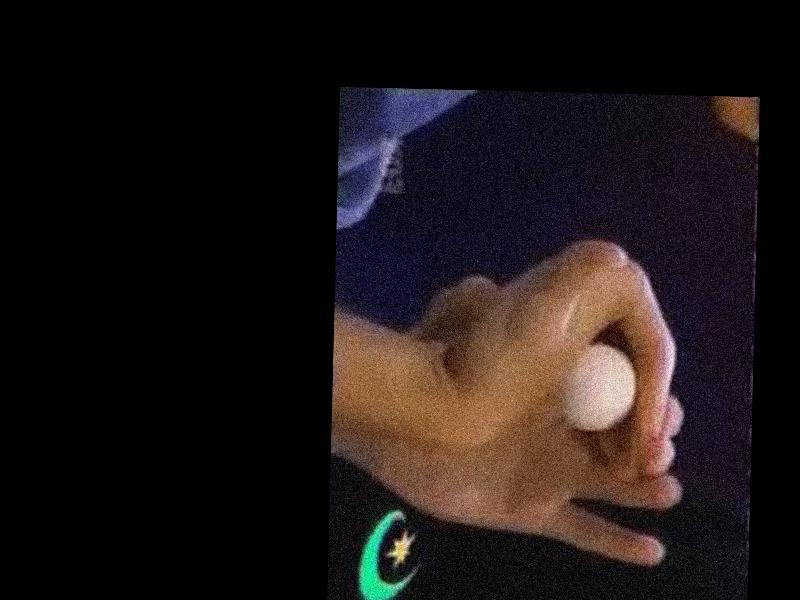Eggs: (568, 340, 639, 433)
